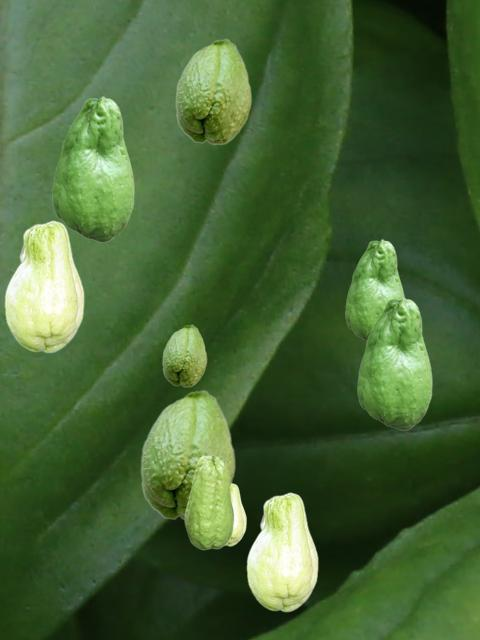sayote: (140, 389, 235, 520), (52, 96, 133, 241), (4, 220, 83, 352), (357, 297, 431, 429), (246, 492, 317, 611), (175, 38, 251, 144), (345, 239, 404, 340), (184, 455, 233, 549), (162, 324, 206, 386), (226, 483, 245, 545)
